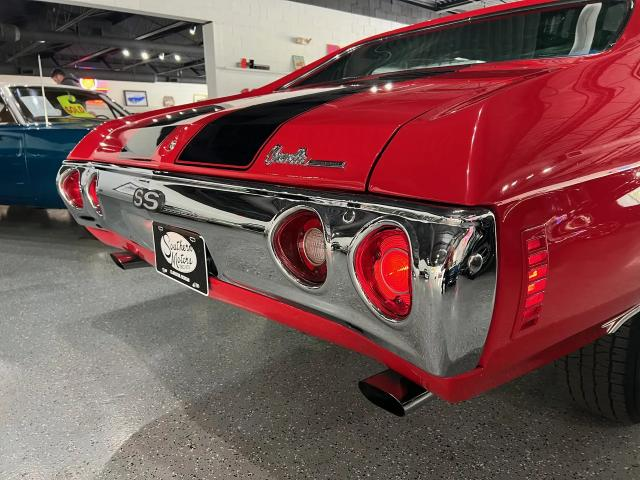chevelle-1972: (54, 0, 640, 424)
